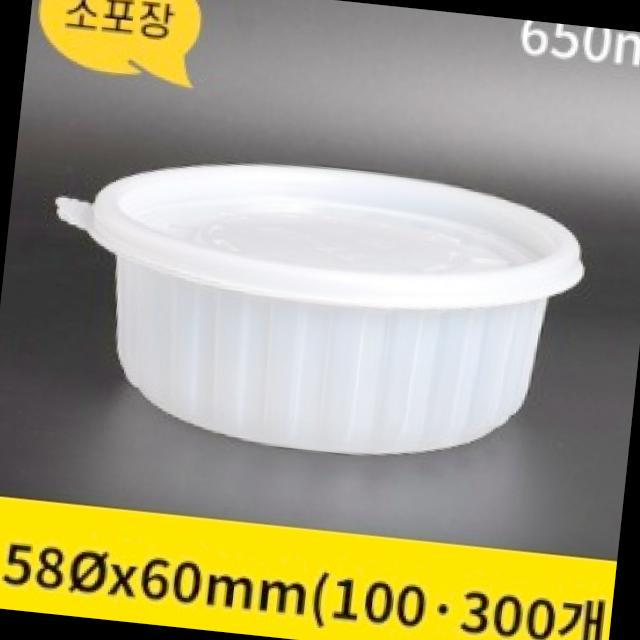container: (30, 146, 620, 485)
